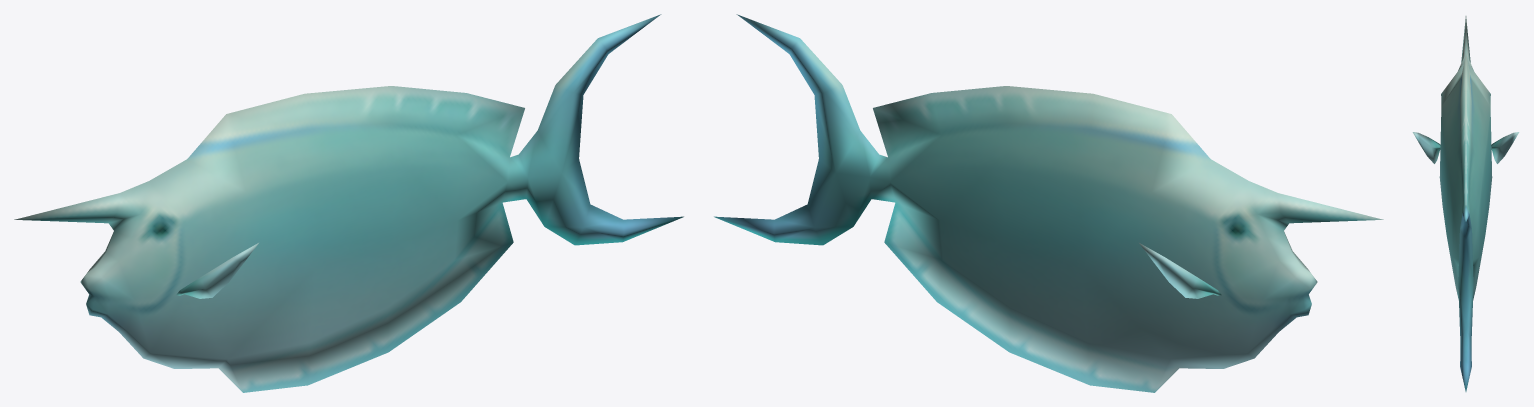
File: f02_dujiaoyu.FBX
3 views of the same model, side by side, from view 1: azimuth 30°, elevation 25°; view 2: azimuth 150°, elevation 25°; view 3: azimuth 270°, elevation 25° (orthographic). The views are drawn at different scales.
Visible parts, largest first — view 1: f02_dujiaoyu; view 2: f02_dujiaoyu; view 3: f02_dujiaoyu.
Boxes of the visible parts, x1,y1,x2,y2 form: f02_dujiaoyu: (14, 14, 683, 392); f02_dujiaoyu: (714, 14, 1383, 392); f02_dujiaoyu: (1412, 16, 1519, 391).
Bounding box in the file's own units: 143 × 59.39 × 25.4.
1 material, 1 textured.
